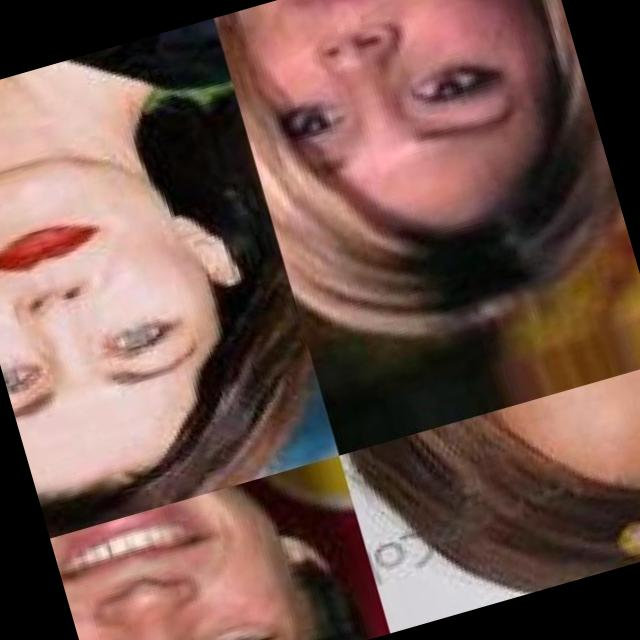bareface: (0, 117, 267, 525)
